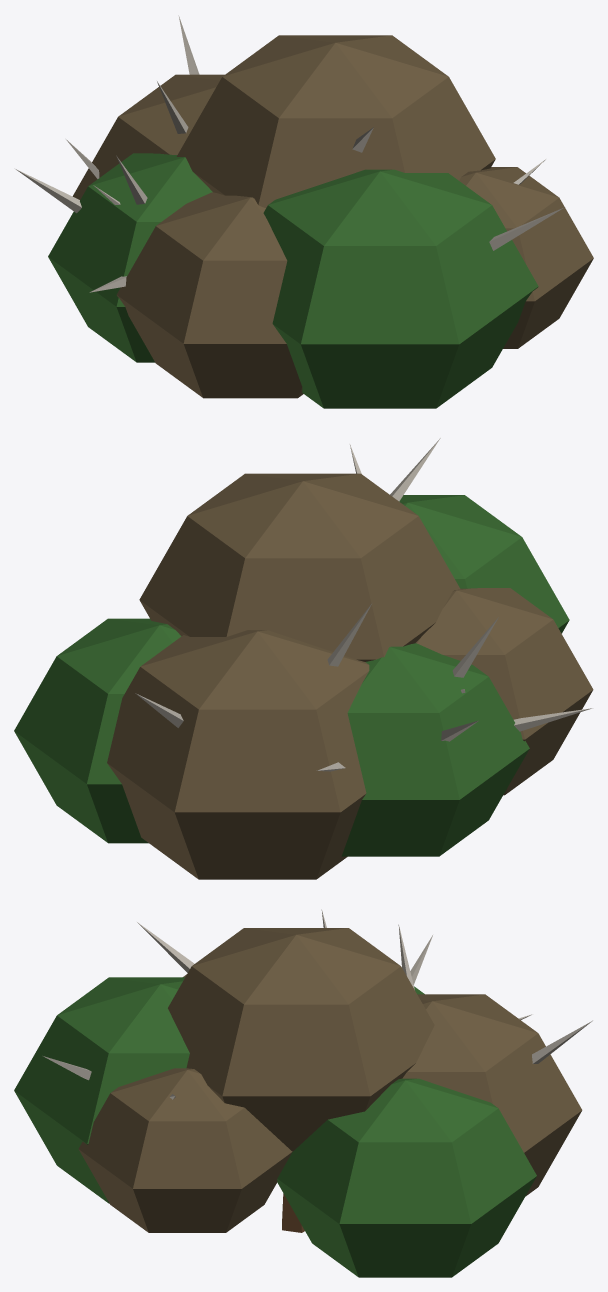
File: bush_thorn.glb
3 views of the same model, one above another, from view 1: azimuth 30°, elevation 25°; view 2: azimuth 150°, elevation 25°; view 3: azimuth 270°, elevation 25° (orthographic). The views are drawn at different scales.
Parts seen in each view (by area): view 1: scatter_bush_thorn; view 2: scatter_bush_thorn; view 3: scatter_bush_thorn.
Boxes of the visible parts, x1,y1,x2,y2 form: scatter_bush_thorn: (15, 15, 593, 408); scatter_bush_thorn: (14, 438, 593, 879); scatter_bush_thorn: (14, 909, 592, 1277).
Size of the model in its own units: 1.91 by 1.31 by 2.29.
